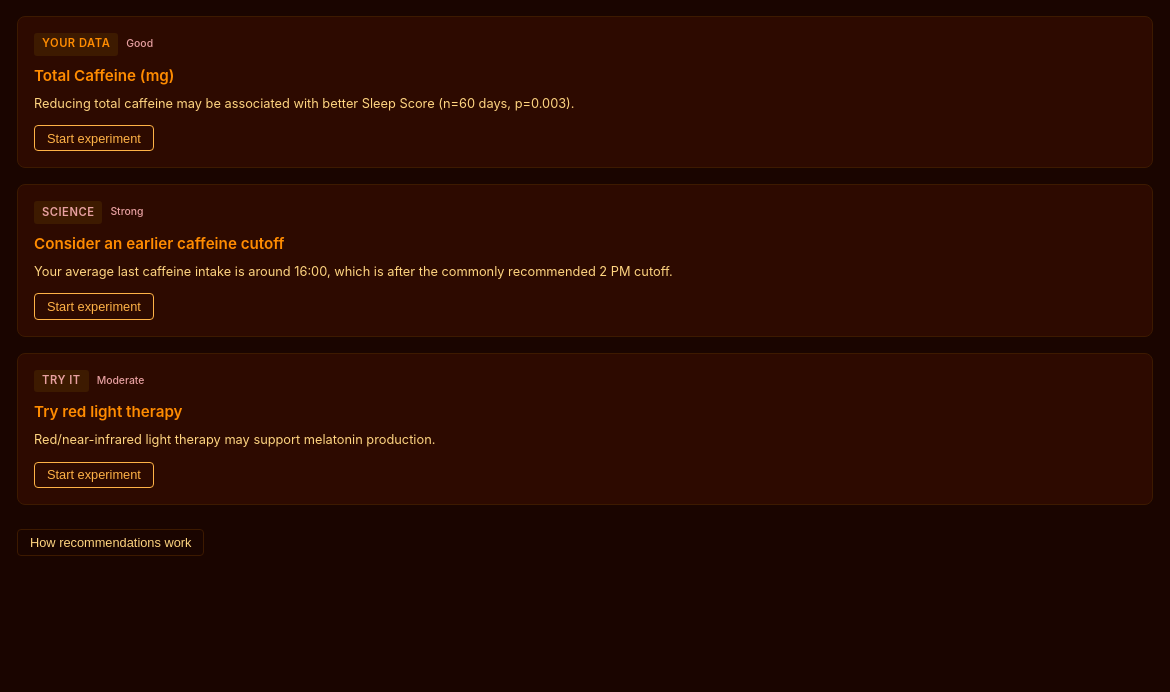
Scenario: RecommendationsPage › explainer toggles on click
Click the button "How recommendations work": click(111, 543) x1=17 y1=529 x2=204 y2=556
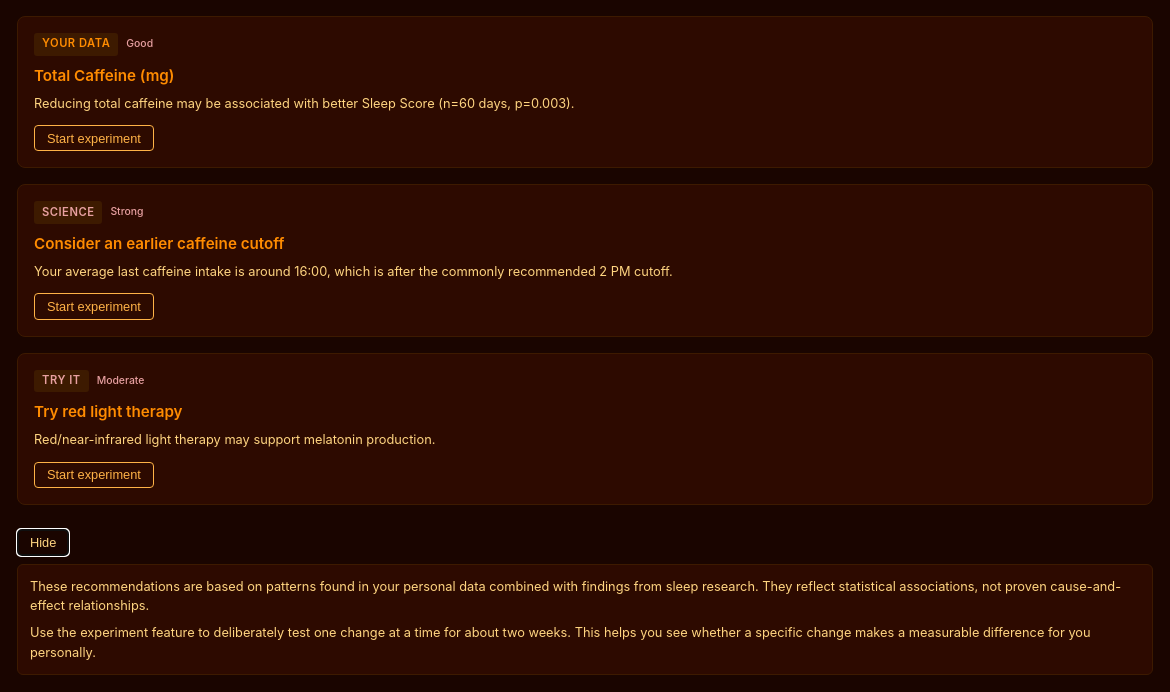
Expected: the text "statistical associations" is shown, x1=30 y1=579 x2=1121 y2=613
